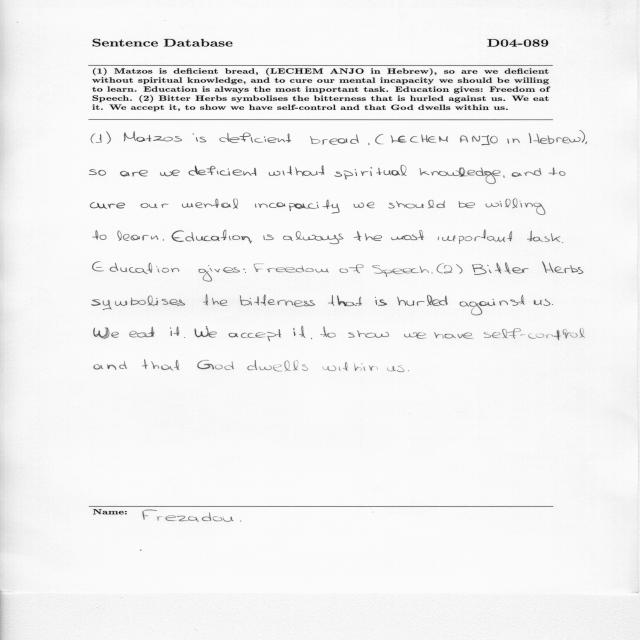word: (92, 295, 185, 310), (420, 167, 501, 184), (460, 295, 525, 315), (484, 328, 585, 340), (255, 200, 339, 214), (334, 165, 407, 180), (172, 230, 253, 243), (93, 262, 180, 274), (438, 230, 512, 244), (486, 198, 546, 215), (240, 295, 315, 307), (219, 132, 292, 143), (283, 231, 343, 244), (198, 265, 240, 282), (372, 265, 429, 277), (189, 166, 257, 176), (254, 264, 329, 273), (248, 360, 309, 371), (124, 131, 182, 142), (229, 329, 281, 341), (269, 165, 325, 176), (182, 198, 238, 209), (397, 295, 448, 306), (310, 134, 359, 145), (391, 134, 448, 143), (389, 200, 445, 209), (487, 262, 529, 274), (542, 262, 584, 274), (323, 362, 378, 371), (117, 230, 158, 241), (142, 360, 179, 371), (460, 135, 498, 145), (556, 131, 585, 144), (328, 295, 362, 306), (197, 360, 234, 370), (527, 231, 560, 242), (391, 230, 424, 240), (348, 330, 389, 338), (203, 294, 228, 306), (94, 361, 127, 370), (129, 327, 155, 338), (354, 231, 382, 241), (434, 332, 474, 339), (529, 133, 554, 144), (94, 328, 119, 339), (195, 326, 217, 338), (512, 168, 541, 177), (91, 202, 126, 209), (340, 264, 364, 273), (120, 170, 148, 176), (472, 264, 487, 275), (321, 327, 336, 338), (293, 326, 306, 338), (404, 332, 426, 339), (549, 167, 566, 176), (437, 264, 452, 274), (141, 203, 169, 208), (93, 230, 106, 240), (354, 202, 375, 208), (160, 170, 180, 176), (89, 169, 106, 176), (534, 299, 551, 306), (388, 365, 405, 372), (193, 134, 206, 143), (459, 201, 475, 208), (375, 297, 387, 306), (170, 326, 180, 336), (375, 134, 383, 144), (456, 264, 463, 274), (507, 139, 520, 144), (106, 132, 111, 144), (263, 235, 274, 240), (96, 134, 102, 143), (91, 134, 96, 144), (243, 268, 246, 273), (585, 142, 587, 145), (503, 175, 505, 178), (369, 143, 370, 145), (431, 273, 433, 274), (163, 240, 164, 241), (562, 242, 563, 243), (552, 304, 553, 305), (184, 337, 185, 338), (311, 338, 312, 339), (408, 371, 409, 371)
